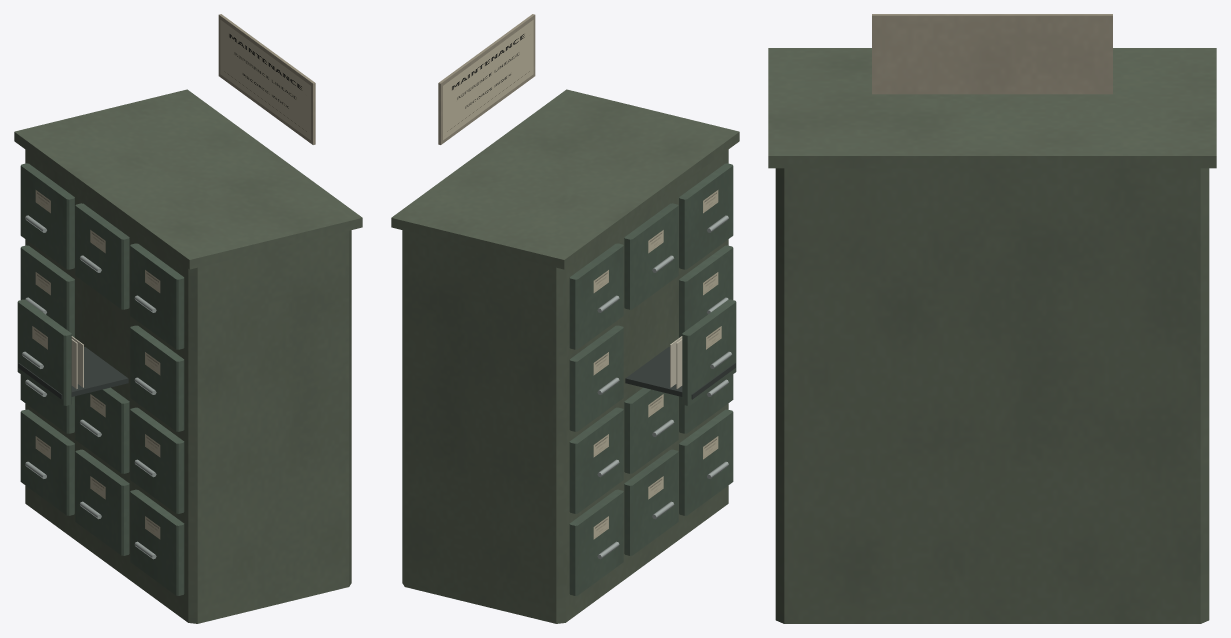
File: SM_ArchiveProps_CardIndex_LOD2.glb
The picture shows the model from 3 angles, left to right: view 1: azimuth 30°, elevation 25°; view 2: azimuth 150°, elevation 25°; view 3: azimuth 270°, elevation 25°; orthographic projection. The views are drawn at different scales.
Visible parts, largest first — view 1: SM_ArchiveProps_CardIndex_LOD2; view 2: SM_ArchiveProps_CardIndex_LOD2; view 3: SM_ArchiveProps_CardIndex_LOD2.
Part boxes in pixels (left/top/right/bottom): SM_ArchiveProps_CardIndex_LOD2: left=14, top=14, right=362, bottom=623; SM_ArchiveProps_CardIndex_LOD2: left=391, top=14, right=739, bottom=623; SM_ArchiveProps_CardIndex_LOD2: left=768, top=14, right=1216, bottom=623.
Size of the model in its own units: 0.748 by 1.39 by 0.93.
Materials: 7 (4 with a texture image).
